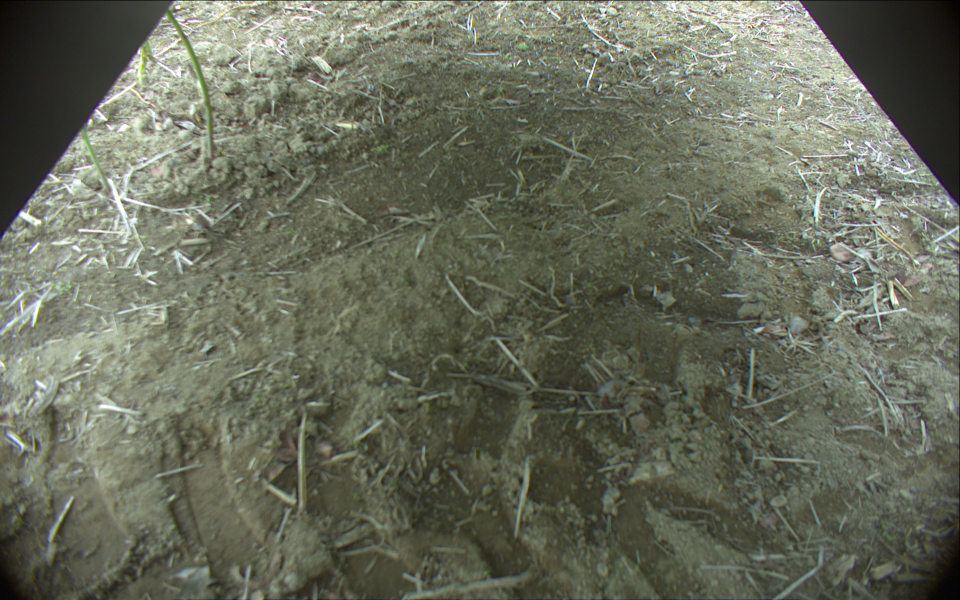aspa: (168, 10, 217, 158), (78, 124, 113, 191), (138, 40, 159, 84)
